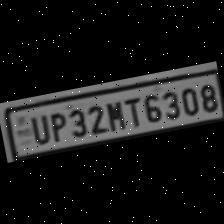0: (176, 84, 200, 118)
2: (82, 101, 108, 136)
3: (63, 104, 90, 140), (158, 86, 182, 122)
6: (136, 90, 163, 126)
8: (195, 80, 219, 115)
M: (101, 96, 128, 132)
P: (44, 108, 69, 144)
T: (120, 93, 144, 129)
U: (24, 112, 52, 146)
